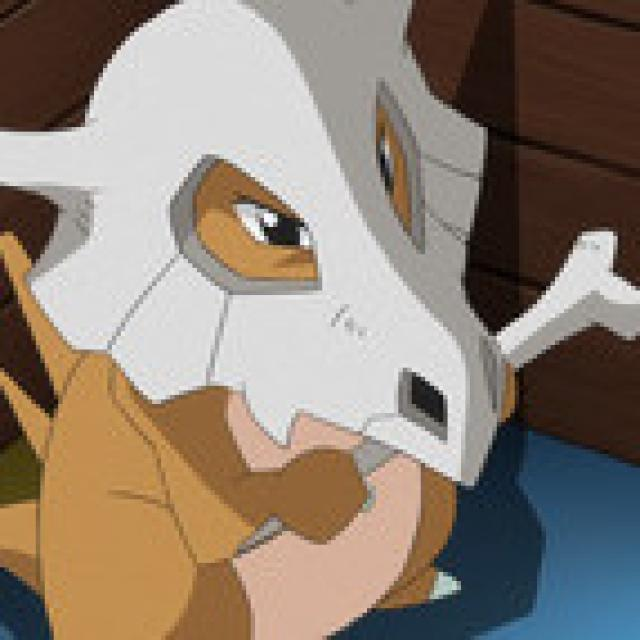Cubone: (2, 8, 518, 640)
